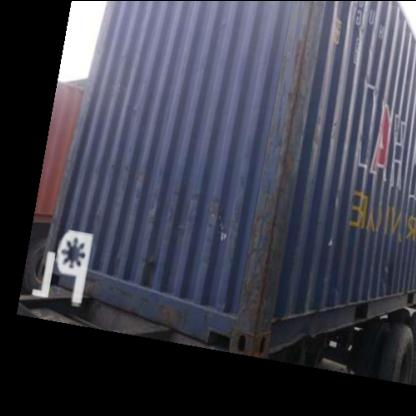Damage: (245, 1, 317, 341)
